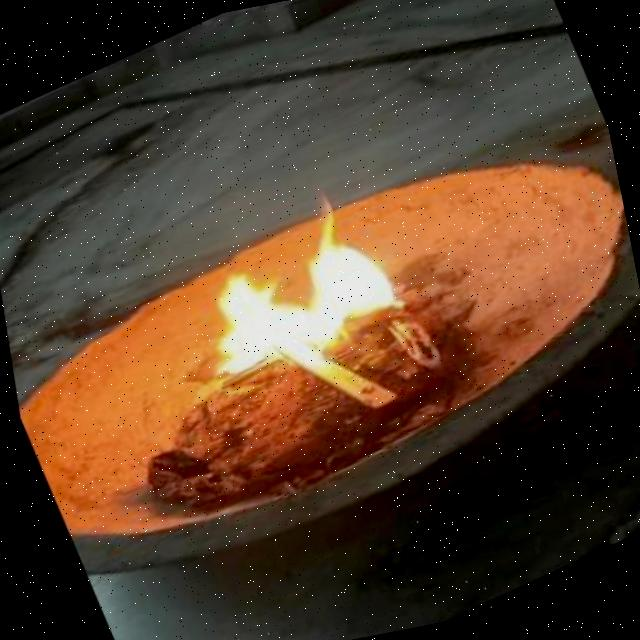fire: (145, 150, 457, 422)
